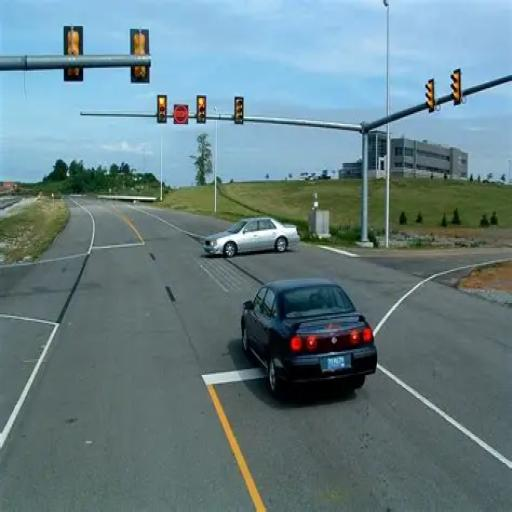car: (240, 277, 377, 395), (203, 216, 300, 257)
traffic light: (63, 24, 83, 80), (130, 28, 150, 82), (450, 68, 462, 105), (425, 78, 434, 112), (233, 95, 243, 124), (196, 94, 206, 122), (157, 94, 166, 122)
